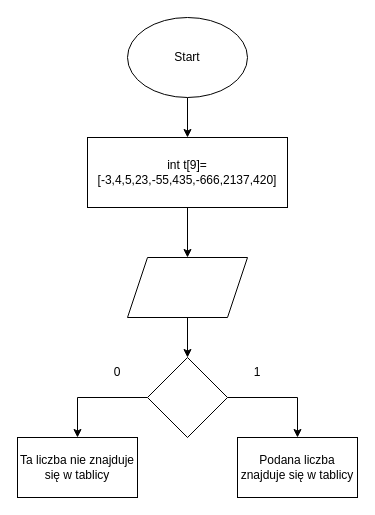
The diagram is 375 pixels wide and 515 high, and some of its shapes have lost their labels. Here are the shapes that lost their labels. From the top down, the centre of each, then its label:
At point (187, 287): "Podaj l".
At point (187, 397): "l in t".
